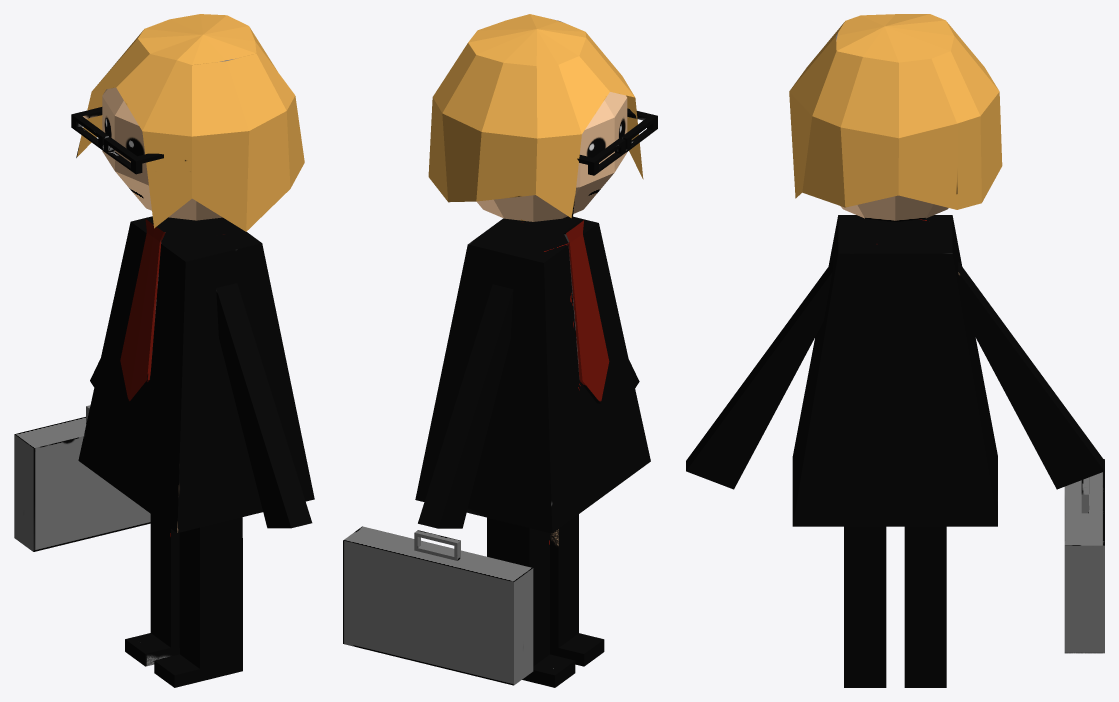
Rendered from homem_negocio_jogo.fbx.
3 renders of one model, left to right at view 1: azimuth 30°, elevation 25°; view 2: azimuth 150°, elevation 25°; view 3: azimuth 270°, elevation 25°, orthographic. The views are drawn at different scales.
Parts seen in each view (by area): view 1: homem_negocios; view 2: homem_negocios; view 3: homem_negocios.
Part boxes in pixels (<box>): homem_negocios: <box>14,14,314,687</box>; homem_negocios: <box>343,14,657,687</box>; homem_negocios: <box>686,14,1104,687</box>.
Size of the model in its own units: 214 by 699 by 408.
Materials: 1 (1 with a texture image).
